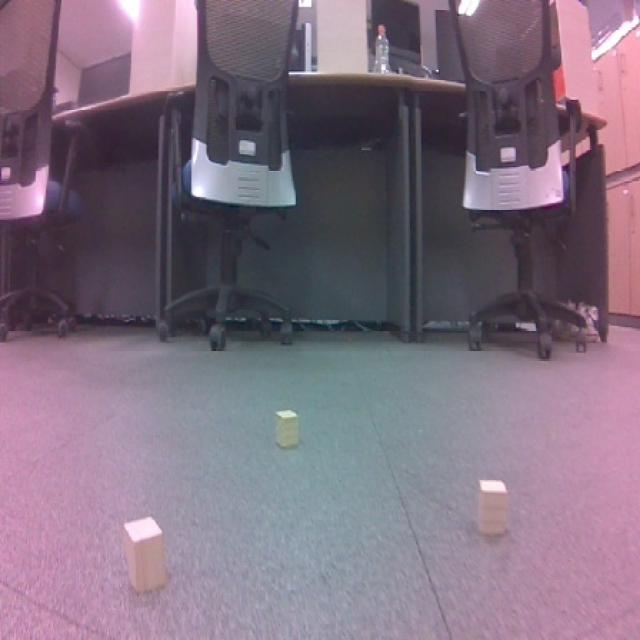obstacle: (108, 510, 182, 610), (465, 475, 517, 542), (266, 403, 308, 452)
